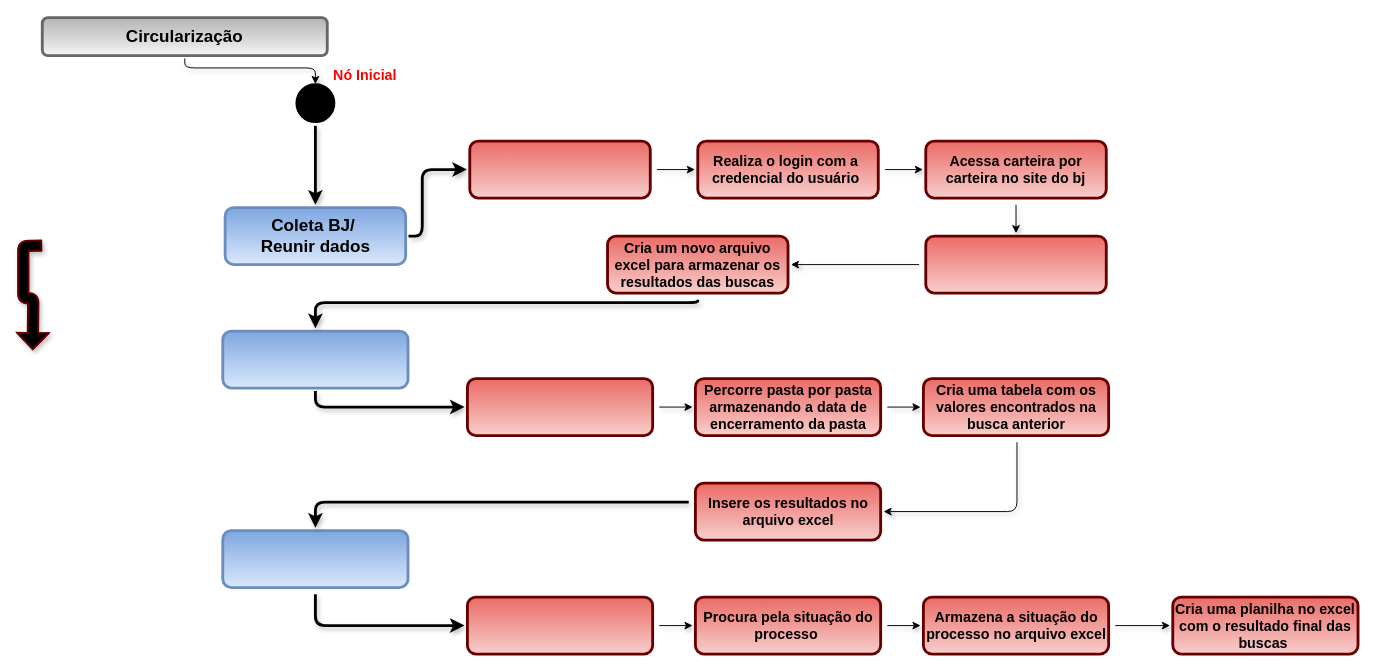
Some shapes in this 1376 by 672 pixel diagram are drawn without their labels. Each missing label, with the centre of its shape:
"Extrair base BJ" goes at (559,169).
"Faz o download de cada planilha do excel no site do bj" goes at (1015,264).
"Realiza a busca com o número do processo" goes at (560,625).
"Realiza login no BJ" goes at (560,407).
"Status BJ" goes at (315,359).
"TJMG" goes at (315,559).
